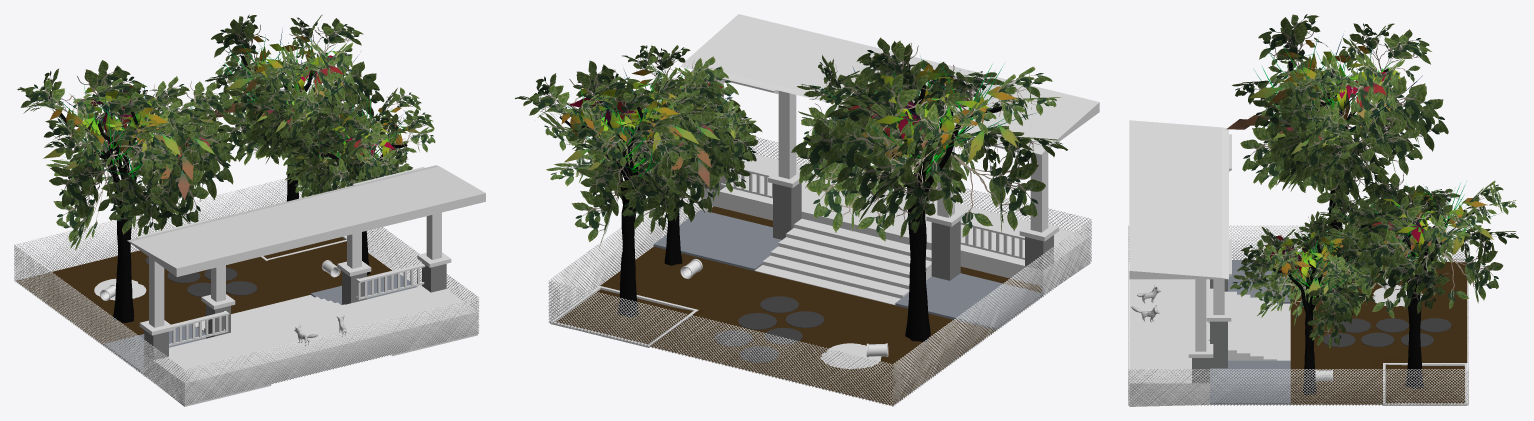
The model's file is EnvironmentAssets_1.fbx.
3 renders of one model, left to right at view 1: azimuth 30°, elevation 25°; view 2: azimuth 150°, elevation 25°; view 3: azimuth 270°, elevation 25°, orthographic. The views are drawn at different scales.
Parts seen in each view (by area): view 1: tree.003, fence, Porch, tree.002, Plane, Ground, tree.004, Pilar 1, Fence, Stone Floor.001, Stone Floor; view 2: tree.003, Ground, fence, tree.002, Porch, Plane, Pilar 1, tree.004, Stone Floor, Stone Floor.001, Fence, WaterPuddle (+4 smaller); view 3: tree.003, tree.002, Plane, Ground, Porch, fence, tree.004, Pilar 1, Stone Floor, Stone Floor.001, InitalPorch, stone_tile.003 (+3 smaller).
Boxes of the visible parts, <box> form: tree.003: <box>17,60,236,323</box>; fence: <box>14,178,479,405</box>; Porch: <box>144,286,477,406</box>; tree.002: <box>205,14,384,201</box>; Plane: <box>127,165,485,276</box>; Ground: <box>16,237,391,345</box>; tree.004: <box>283,87,435,274</box>; Pilar 1: <box>136,167,451,360</box>; Fence: <box>169,263,425,346</box>; Stone Floor.001: <box>104,324,205,374</box>; Stone Floor: <box>310,274,416,304</box>; tree.003: <box>791,37,1067,341</box>; Ground: <box>551,206,1041,405</box>; fence: <box>548,137,1091,406</box>; tree.002: <box>515,60,733,317</box>; Porch: <box>700,154,1090,305</box>; Plane: <box>680,14,1099,154</box>; Pilar 1: <box>691,70,1059,280</box>; tree.004: <box>568,45,762,265</box>; Stone Floor: <box>653,210,781,270</box>; Stone Floor.001: <box>895,273,1043,329</box>; Fence: <box>721,167,1024,259</box>; WaterPuddle: <box>820,343,881,368</box>; tree.003: <box>1226,14,1448,233</box>; tree.002: <box>1319,172,1518,388</box>; Plane: <box>1129,120,1228,279</box>; Ground: <box>1290,262,1467,404</box>; Porch: <box>1129,279,1290,406</box>; fence: <box>1128,225,1468,405</box>; tree.004: <box>1230,211,1379,395</box>; Pilar 1: <box>1188,134,1231,383</box>; Stone Floor: <box>1210,360,1290,404</box>; Stone Floor.001: <box>1228,260,1290,303</box>; InitalPorch: <box>1383,363,1467,405</box>; stone_tile.003: <box>1376,318,1408,332</box>.
Bounding box in the file's own units: 1185 × 1375 × 809.
